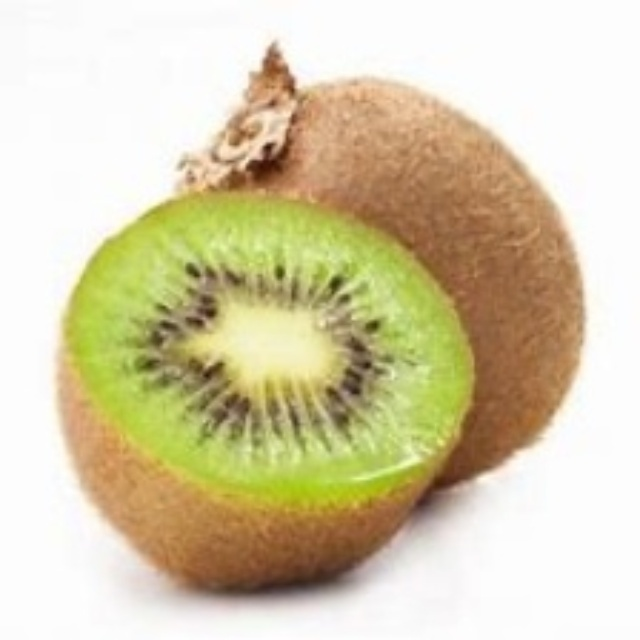kiwi: (167, 69, 589, 478), (47, 196, 475, 593)
